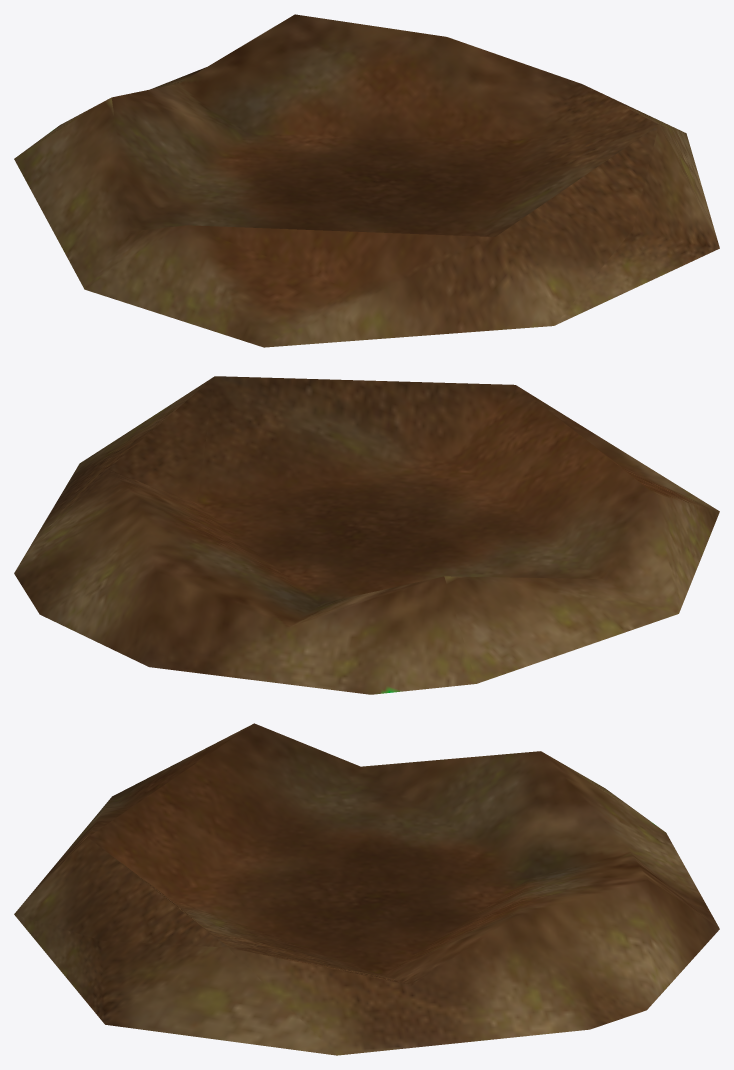
Rendered from dig.glb.
3 renders of one model, top to bottom at view 1: azimuth 30°, elevation 25°; view 2: azimuth 150°, elevation 25°; view 3: azimuth 270°, elevation 25°, orthographic.
Visible parts, largest first — view 1: dig; view 2: dig; view 3: dig.
Part boxes in pixels (box(x1,y1,x2,y2)): dig: box(14, 14, 719, 347); dig: box(14, 376, 719, 694); dig: box(14, 723, 719, 1055).
Size of the model in its own units: 1.24 by 0.17 by 1.26.
Materials: 1 (1 with a texture image).
